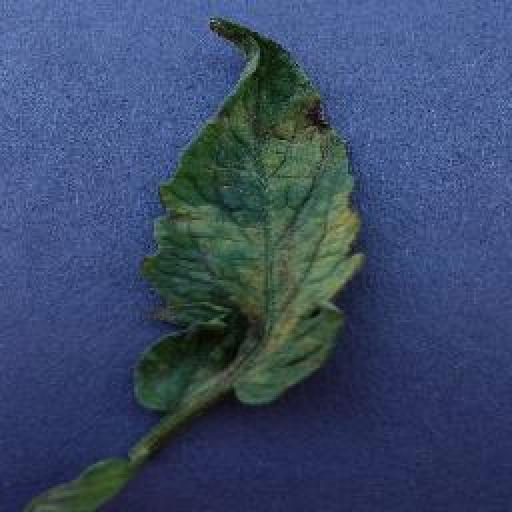disease_tomato: (130, 16, 366, 406)
